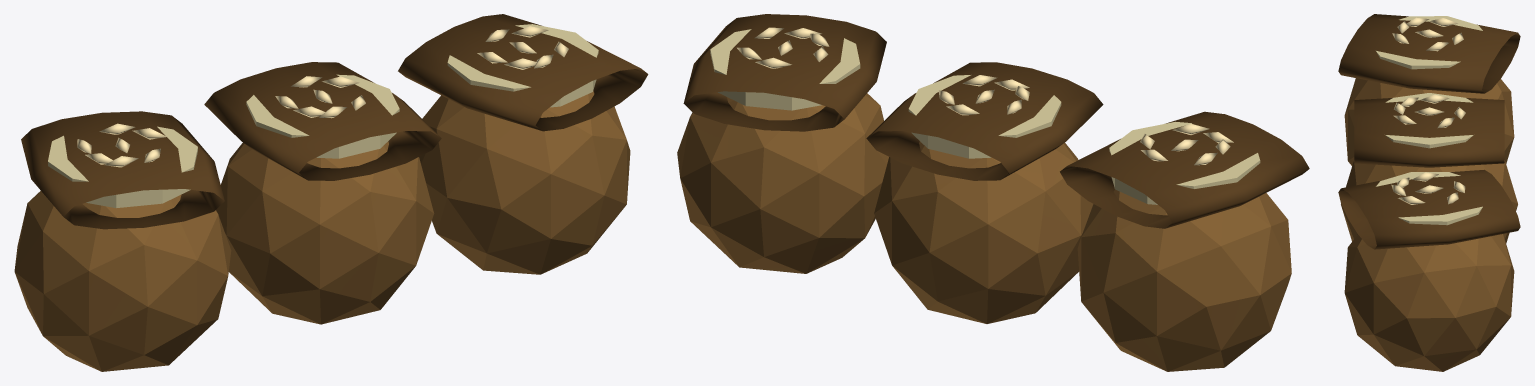
Rendered from pile-milledRice-3.obj.
3 views of the same model, side by side, from view 1: azimuth 30°, elevation 25°; view 2: azimuth 150°, elevation 25°; view 3: azimuth 270°, elevation 25° (orthographic). The views are drawn at different scales.
Parts seen in each view (by area): view 1: pile-milledRice-3; view 2: pile-milledRice-3; view 3: pile-milledRice-3.
Boxes of the visible parts, x1,y1,x2,y2 form: pile-milledRice-3: [14, 14, 648, 371]; pile-milledRice-3: [677, 14, 1309, 371]; pile-milledRice-3: [1338, 14, 1520, 371].
Size of the model in its own units: 0.7915 by 0.2915 by 0.267.
Materials: 1 (1 with a texture image).
